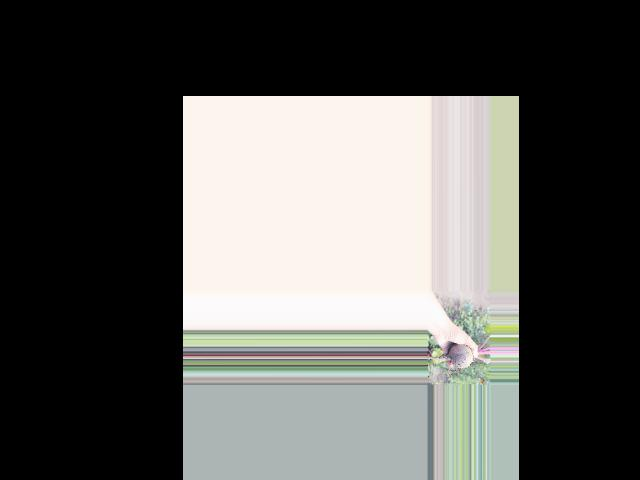beet: (426, 334, 490, 378)
